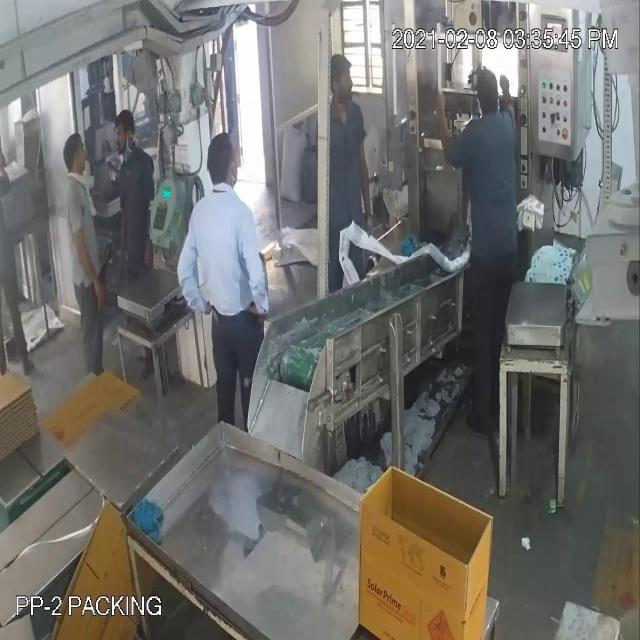No_Gloves: (22, 86, 508, 274)
